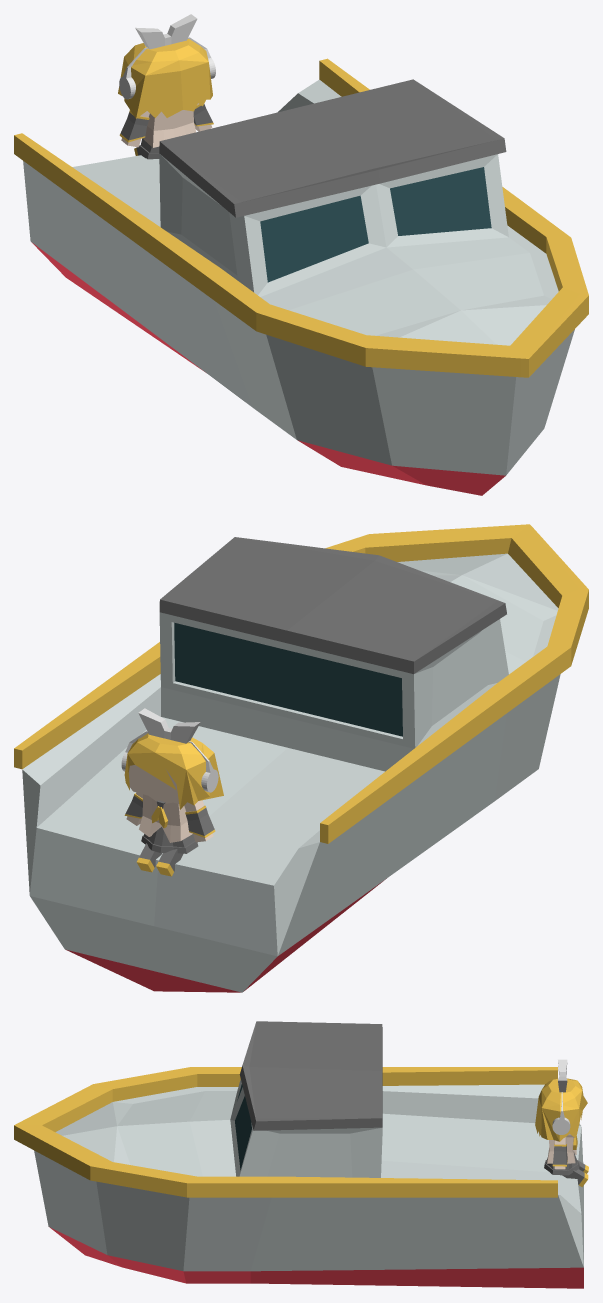
Rendered from littleshipRin.glb.
3 renders of one model, top to bottom at view 1: azimuth 30°, elevation 25°; view 2: azimuth 150°, elevation 25°; view 3: azimuth 270°, elevation 25°, orthographic. The views are drawn at different scales.
Visible parts, largest first — view 1: Cube, 球体, 立方体.004, Cube.001, Cylinder; view 2: Cube, 球体, 立方体.004, 立方体.003, Cube.001, Cylinder, 立方体.015; view 3: Cube, 球体, 立方体.004.
Part boxes in pixels (x1=…): Cube: x1=14, y1=58, x2=588, y2=495; 球体: x1=118, y1=39, x2=212, y2=118; 立方体.004: x1=143, y1=110, x2=195, y2=147; Cube.001: x1=135, y1=14, x2=197, y2=49; Cylinder: x1=119, y1=37, x2=215, y2=99; Cube: x1=14, y1=524, x2=588, y2=992; 球体: x1=124, y1=733, x2=223, y2=809; 立方体.004: x1=139, y1=794, x2=192, y2=842; 立方体.003: x1=128, y1=765, x2=189, y2=805; Cube.001: x1=138, y1=708, x2=200, y2=743; Cylinder: x1=121, y1=731, x2=218, y2=792; 立方体.015: x1=185, y1=805, x2=215, y2=837; Cube: x1=14, y1=1021, x2=583, y2=1288; 球体: x1=535, y1=1078, x2=587, y2=1141; 立方体.004: x1=547, y1=1137, x2=576, y2=1163.
Size of the model in its own units: 3.04 by 2.51 by 6.35.
